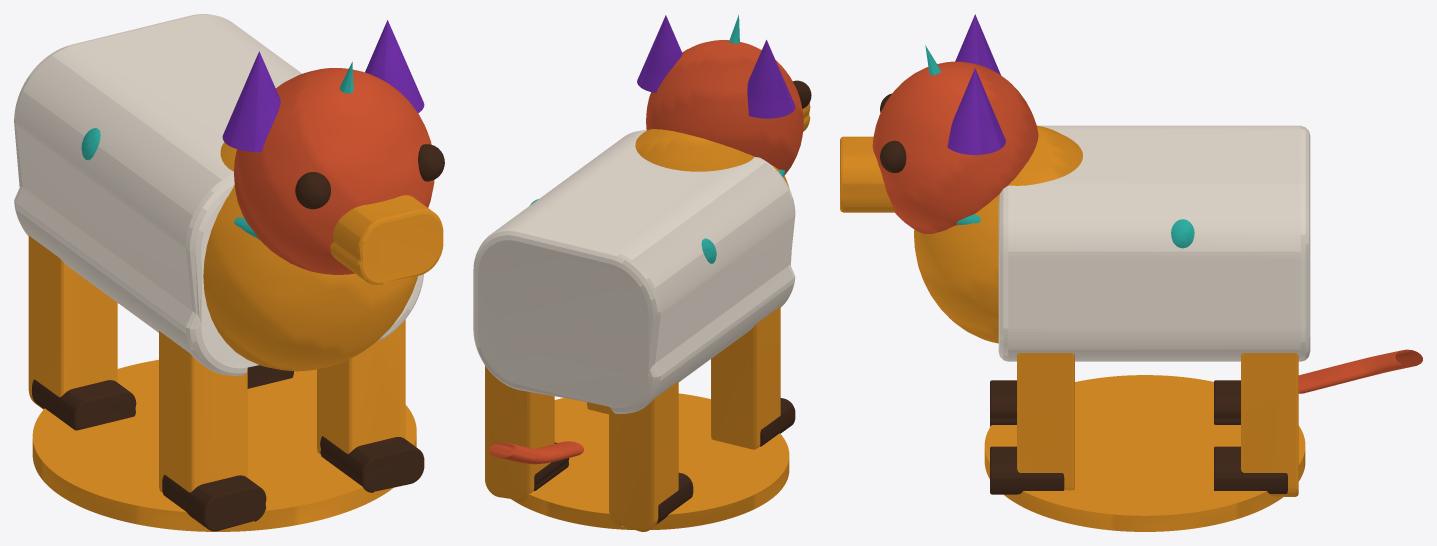
Rendered from 0286_古生代动物图鉴_灰姑娘虫.glb.
3 renders of one model, left to right at view 1: azimuth 30°, elevation 25°; view 2: azimuth 150°, elevation 25°; view 3: azimuth 270°, elevation 25°, orthographic. The views are drawn at different scales.
Visible parts, largest first — view 1: card_0286; view 2: card_0286; view 3: card_0286.
Boxes of the visible parts, x1,y1,x2,y2 form: card_0286: (14,14,444,531); card_0286: (473,14,811,531); card_0286: (840,14,1422,531).
Bounding box in the file's own units: 0.7178 × 1 × 1.26.
